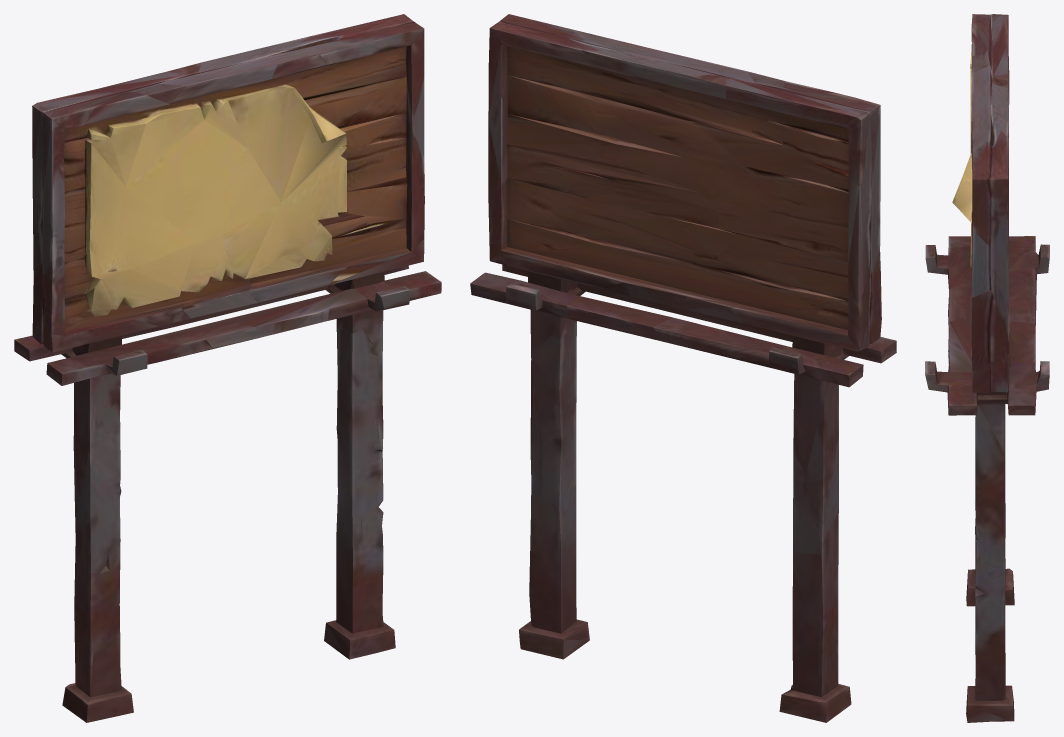
Rendered from bg_desert_sign_1_lod0.glb.
3 views of the same model, side by side, from view 1: azimuth 30°, elevation 25°; view 2: azimuth 150°, elevation 25°; view 3: azimuth 270°, elevation 25° (orthographic). The views are drawn at different scales.
Parts seen in each view (by area): view 1: body; view 2: body; view 3: body.
Part boxes in pixels (x1,y1,x2,y2): body: (14, 14, 441, 722); body: (470, 14, 896, 722); body: (925, 14, 1049, 722).
Size of the model in its own units: 1.95 by 3 by 0.6065.
Materials: 1 (1 with a texture image).
